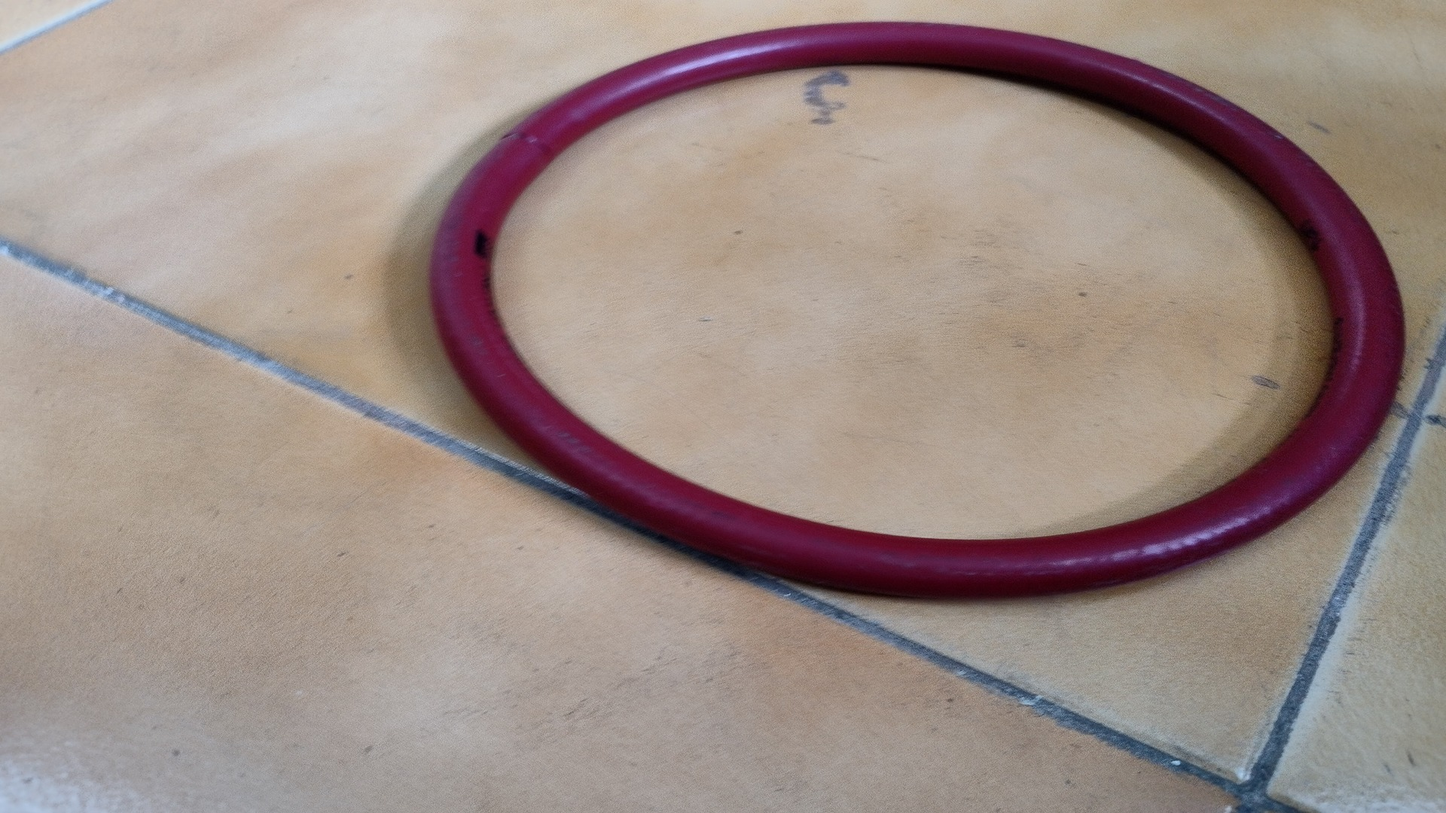Red ring: (426, 26, 1410, 588)
